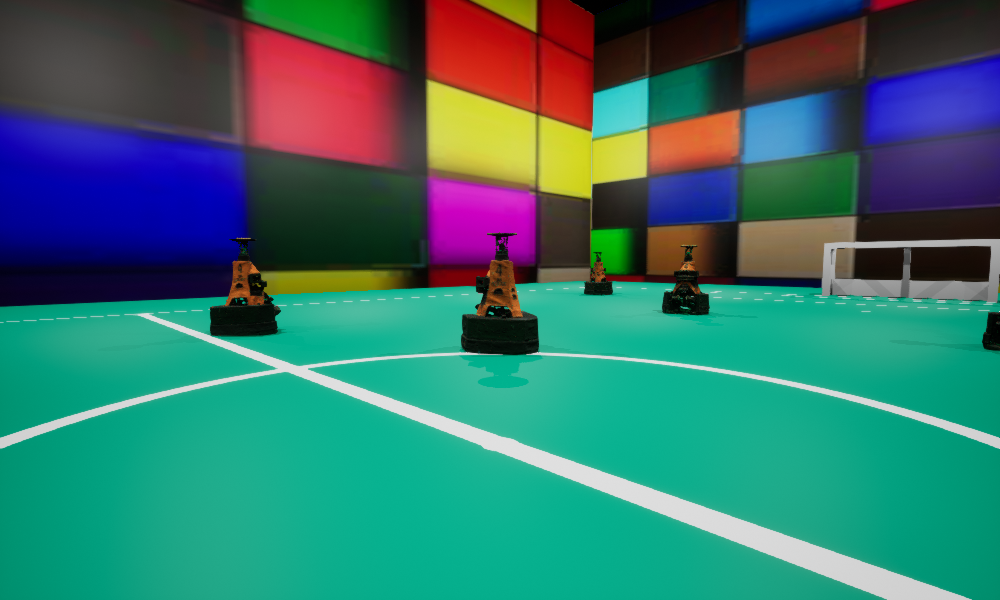0 orange robot TechUnited: (461, 232, 538, 354), (210, 238, 280, 335), (662, 245, 709, 313), (584, 252, 612, 294), (982, 312, 999, 350)
